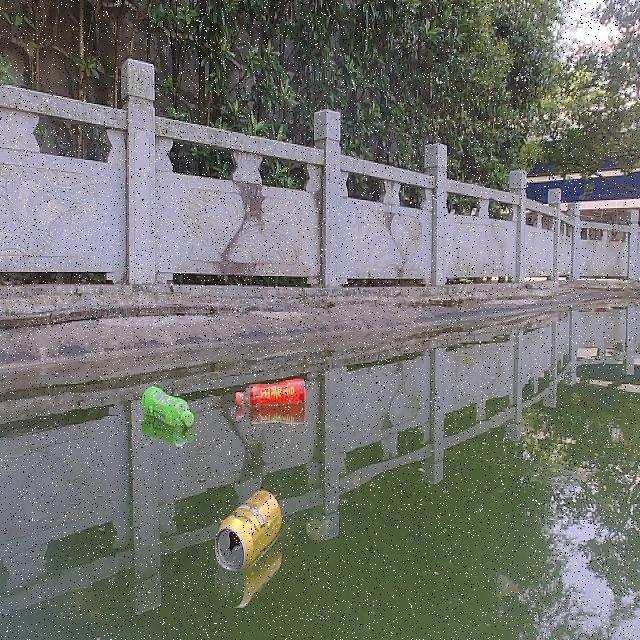Bottle: (231, 374, 308, 410), (138, 382, 195, 430)
Can: (212, 486, 284, 574)
